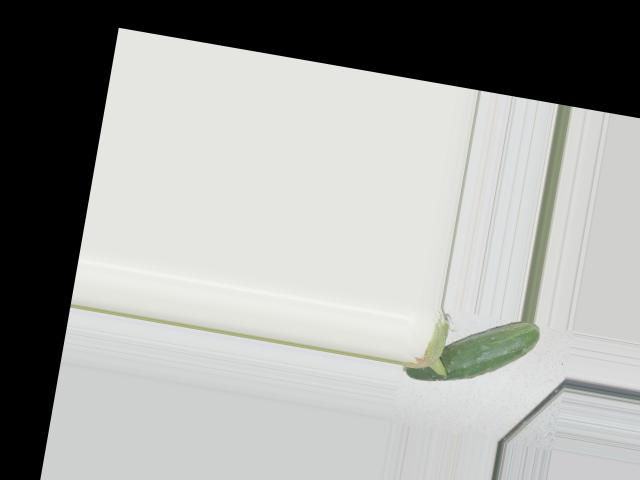cucumber: (401, 302, 542, 398)
